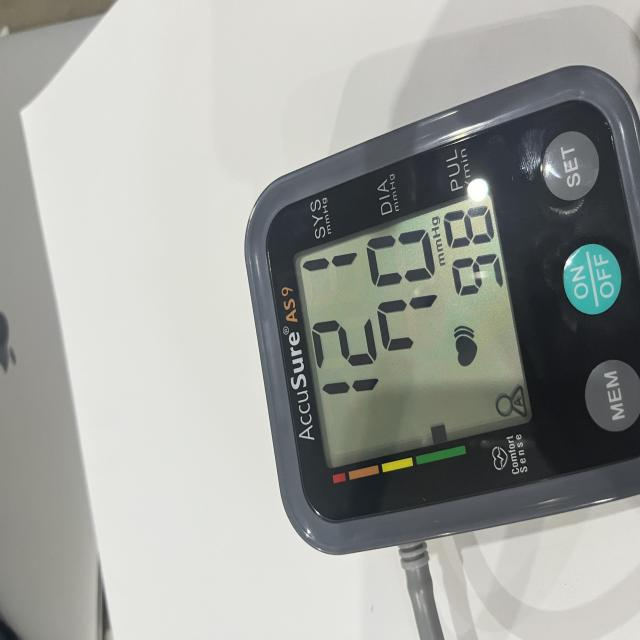bp: (242, 63, 640, 560)
